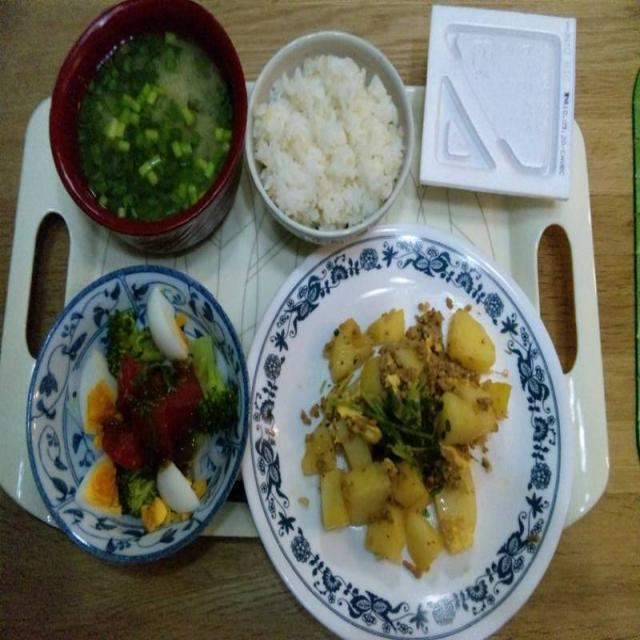Rice: (240, 27, 417, 256)
